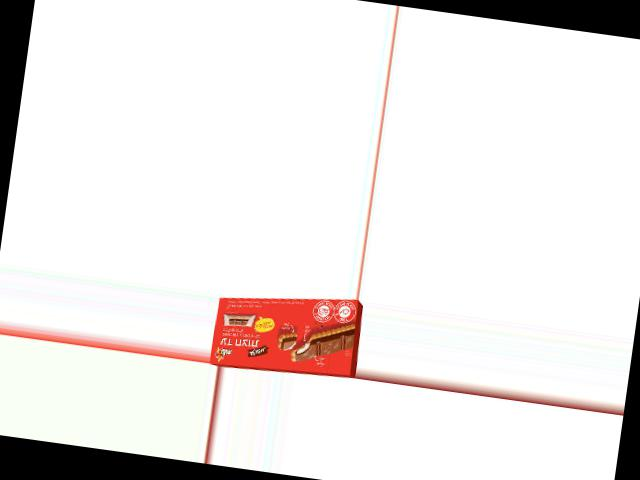chocolate: (209, 289, 363, 378)
